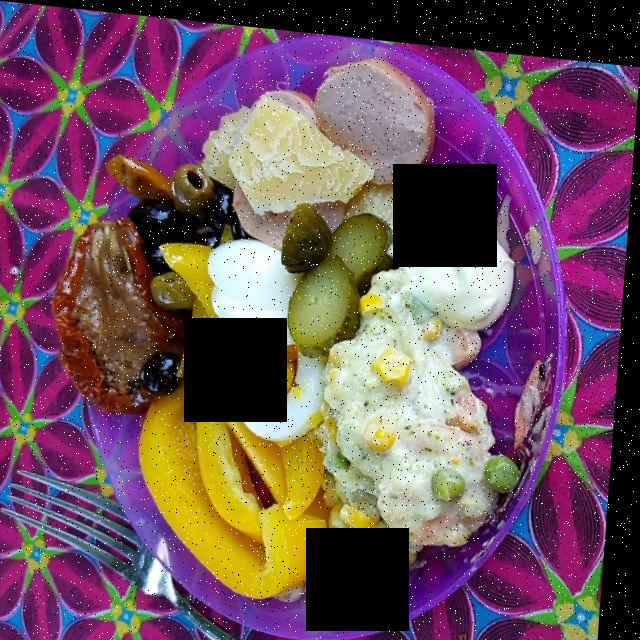bell-pepper-red-raw: (123, 240, 330, 580)
black-olives: (131, 155, 212, 402)
cervelat: (232, 60, 451, 230)
egg: (210, 237, 325, 438)
mayonnaise: (394, 178, 517, 338)
parmesan: (200, 89, 383, 201)
sun-dried-tomatoe: (52, 203, 159, 403)
